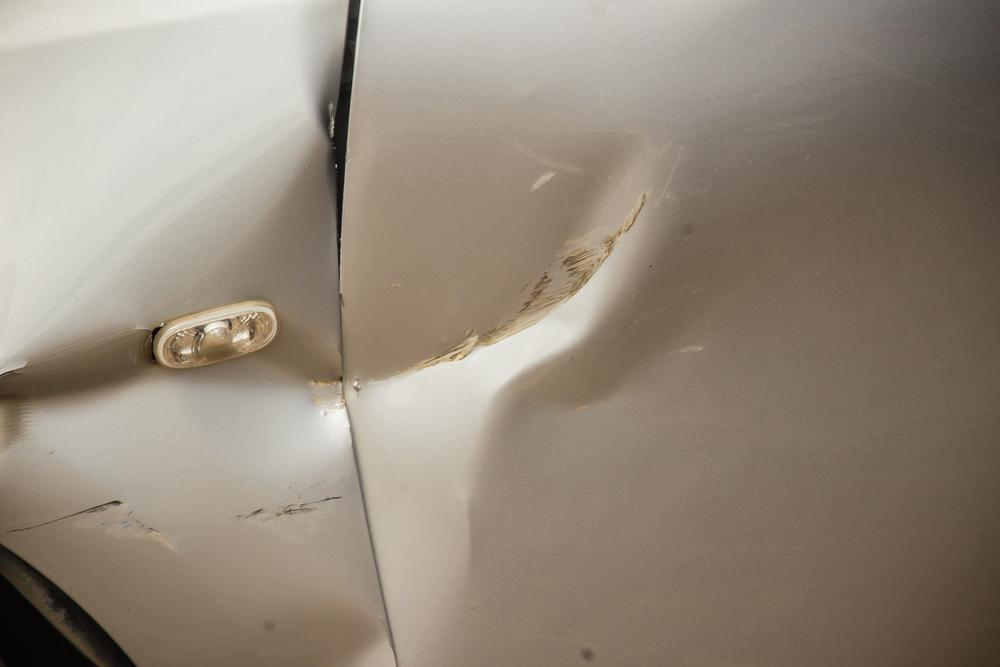dent: (0, 0, 392, 667), (348, 82, 701, 571)
